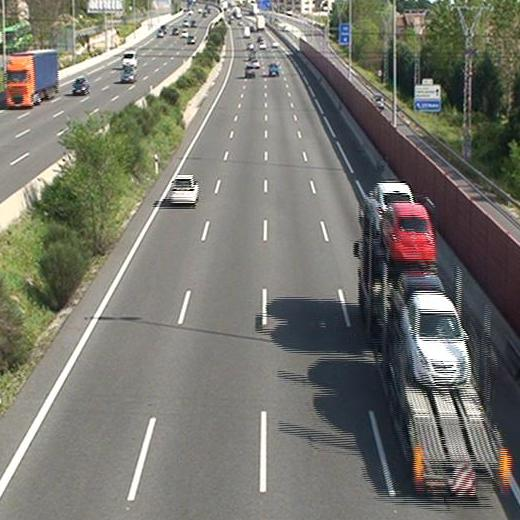car: (401, 293, 471, 387), (381, 203, 436, 262), (171, 175, 199, 204), (268, 63, 279, 76), (244, 65, 255, 77)
truck: (360, 186, 513, 498)
